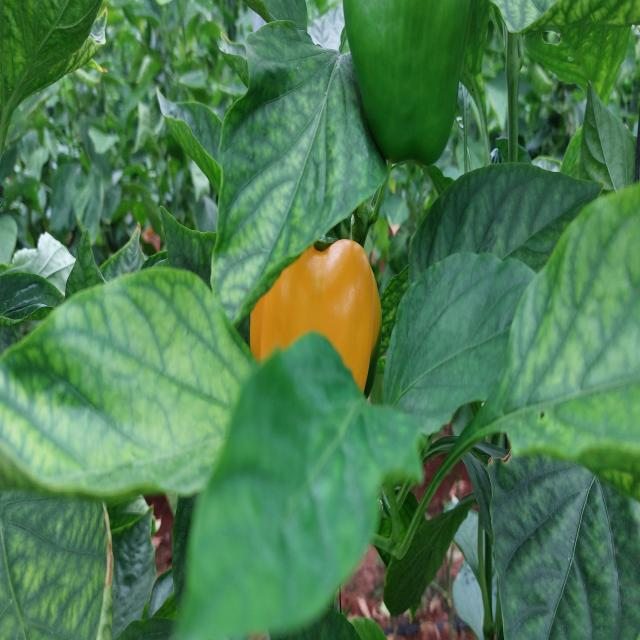Yellow-Ready-to-Harvest: (242, 229, 376, 405)
